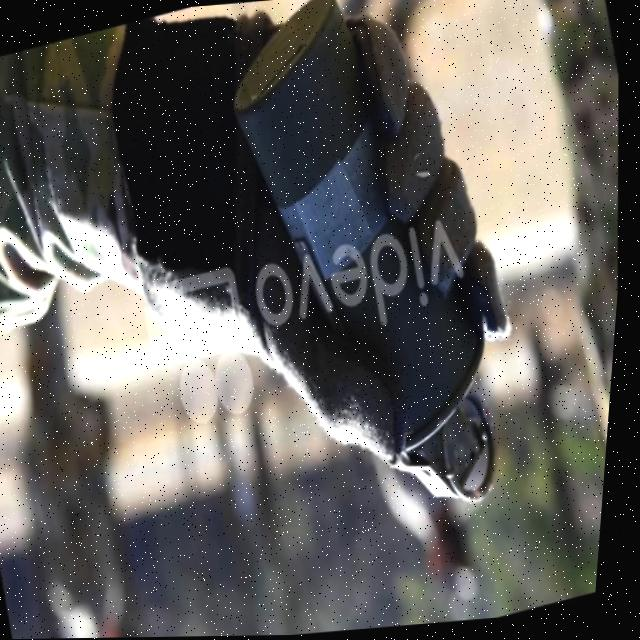grenade: (182, 0, 567, 558)
